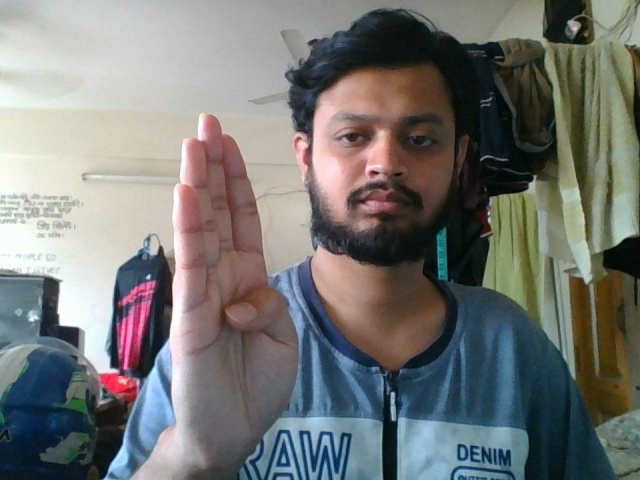ba: (161, 111, 305, 479)
